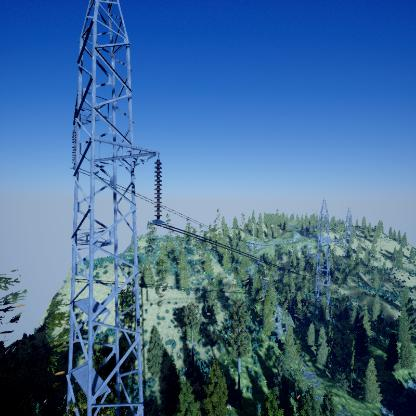insulator: (153, 159, 164, 220)
